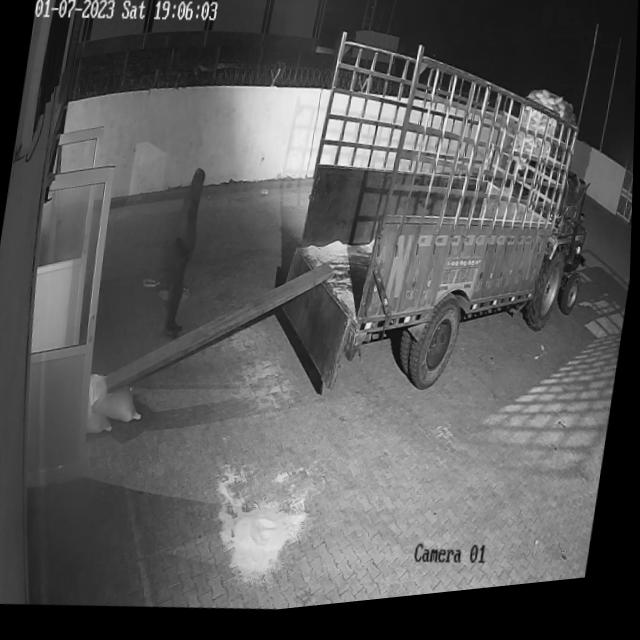sack: (86, 371, 150, 430)
